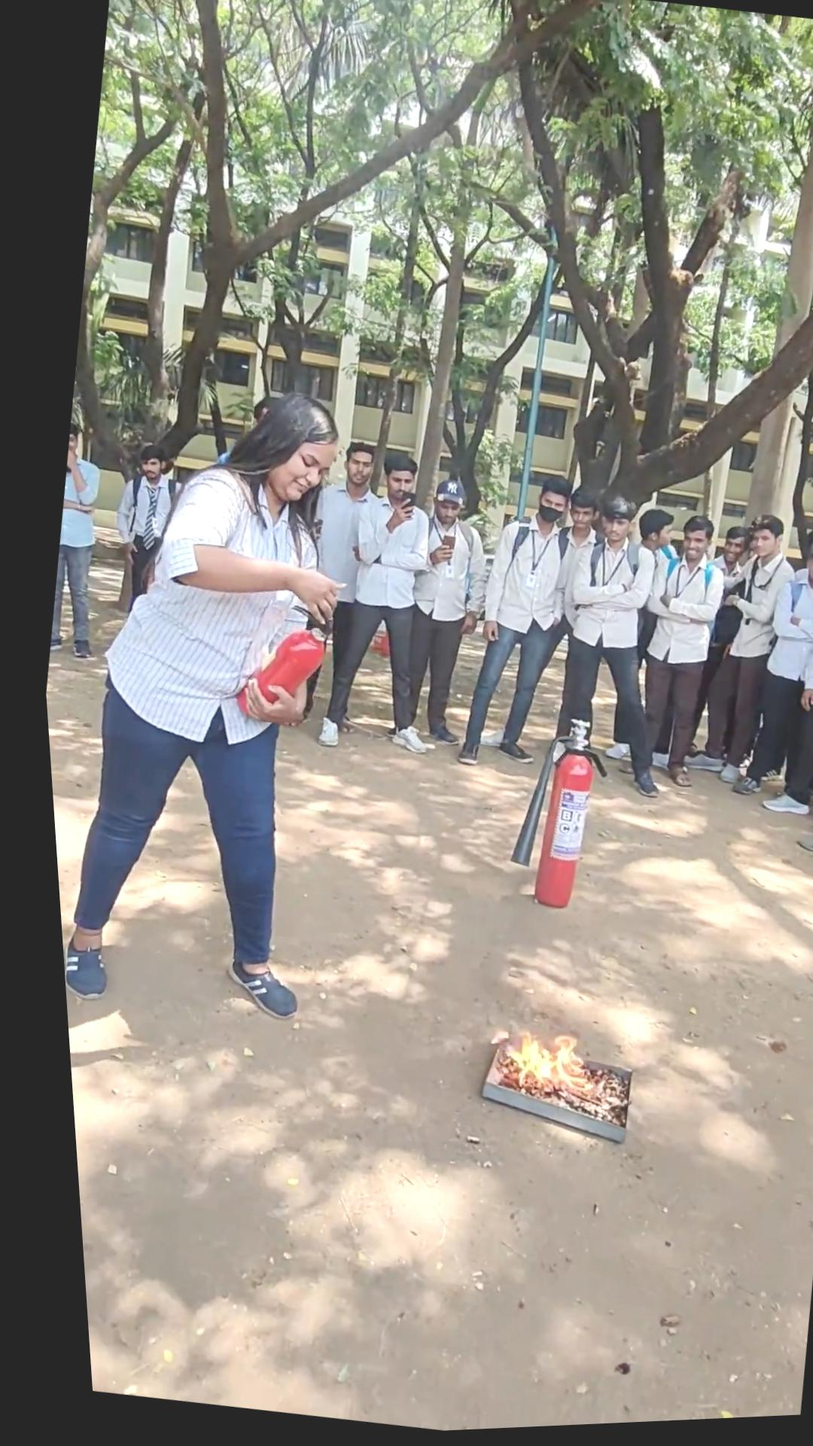FireExtinguisher: (476, 721, 630, 931), (214, 585, 354, 754)
not: (441, 1001, 633, 1137)
